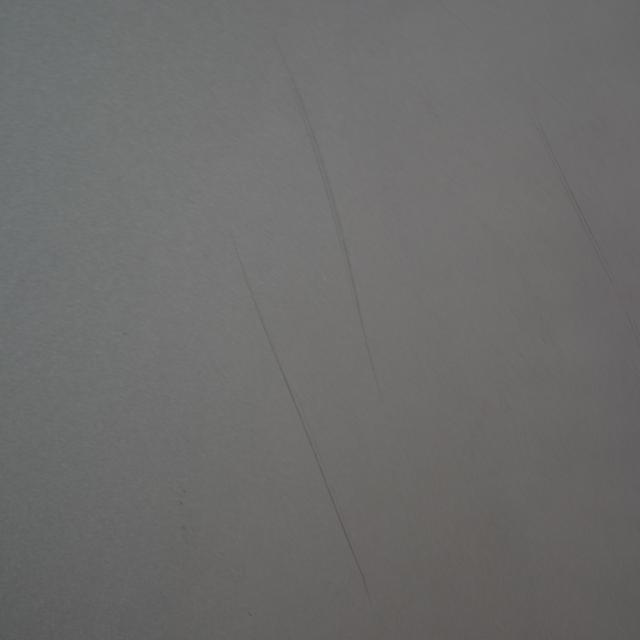scratch: (231, 226, 373, 606), (269, 22, 390, 421), (524, 93, 640, 348)
